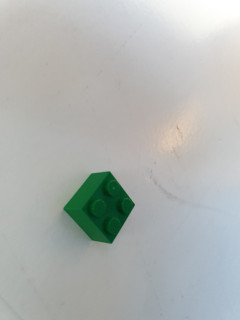2x2 green: (63, 169, 139, 246)
